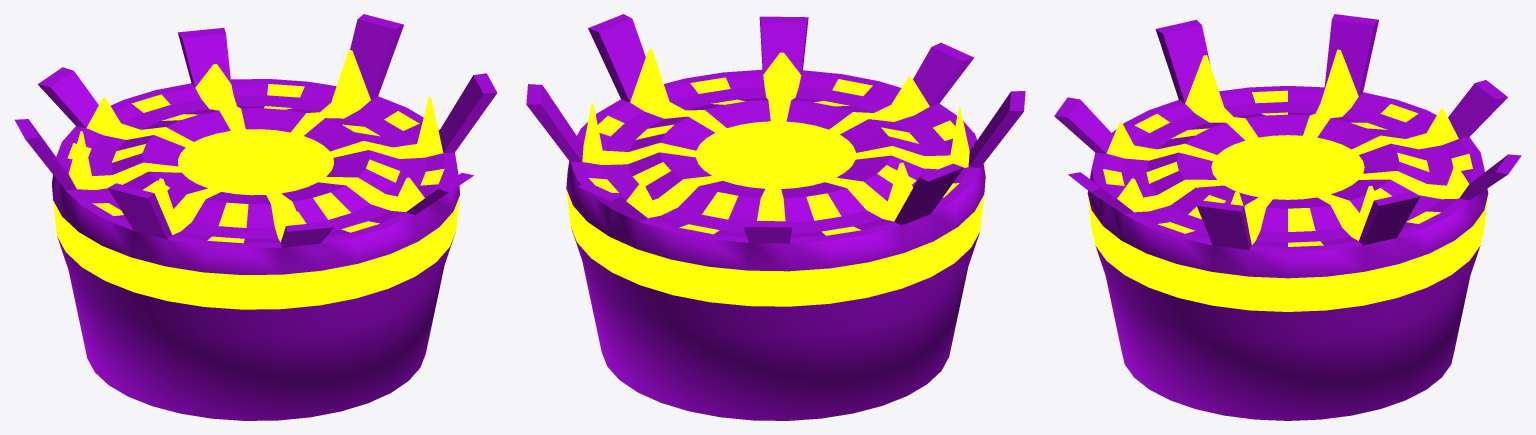
Rendered from AlienStructureSpawnerVertical.dae.
3 renders of one model, left to right at view 1: azimuth 30°, elevation 25°; view 2: azimuth 150°, elevation 25°; view 3: azimuth 270°, elevation 25°, orthographic. The views are drawn at different scales.
Parts seen in each view (by area): view 1: Sphere; view 2: Sphere; view 3: Sphere.
Part boxes in pixels (x1,y1,x2,y2): Sphere: (15, 14, 497, 420); Sphere: (526, 14, 1025, 420); Sphere: (1054, 14, 1521, 420).
Size of the model in its own units: 2.34 by 2.34 by 1.31.
